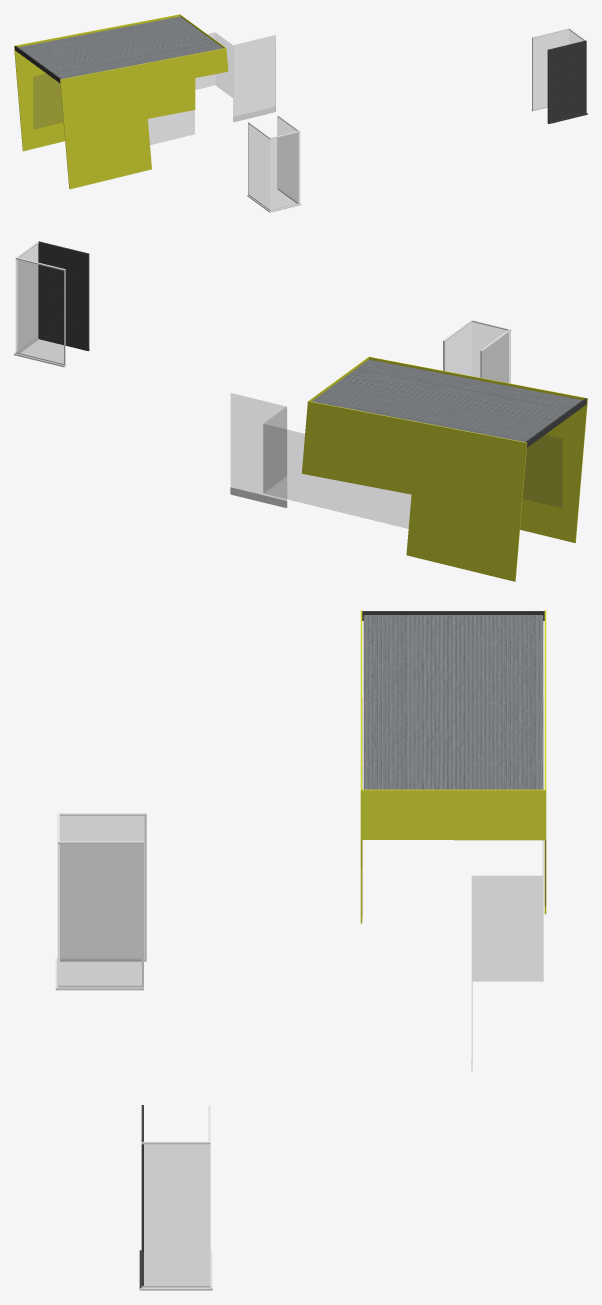
File: Cover-transformed.glb
The picture shows the model from 3 angles, top to bottom: view 1: azimuth 30°, elevation 25°; view 2: azimuth 150°, elevation 25°; view 3: azimuth 270°, elevation 25°; orthographic projection. The views are drawn at different scales.
Parts seen in each view (by area): view 1: cover-audit, cover-glass-one, rooftop-audit; view 2: cover-audit, cover-glass-one, rooftop-audit; view 3: cover-glass-one, rooftop-audit, cover-audit.
Part boxes in pixels (left/top/right/bottom): cover-audit: left=14, top=14, right=228, bottom=189; cover-glass-one: left=33, top=28, right=587, bottom=212; rooftop-audit: left=15, top=16, right=587, bottom=123; cover-audit: left=301, top=356, right=587, bottom=581; cover-glass-one: left=14, top=241, right=562, bottom=528; rooftop-audit: left=38, top=241, right=586, bottom=447; cover-glass-one: left=55, top=699, right=543, bottom=1290; rooftop-audit: left=139, top=611, right=544, bottom=1288; cover-audit: left=360, top=610, right=546, bottom=923.
Size of the model in its own units: 33.1 by 7.5 by 14.88.
5 materials, 2 textured.
